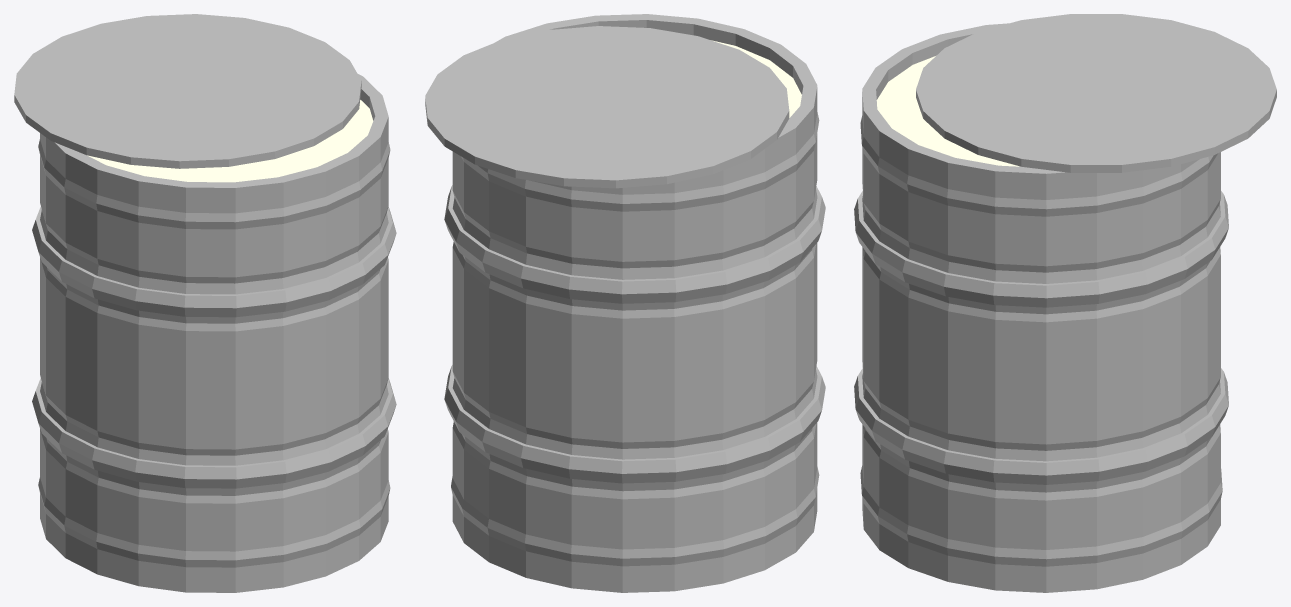
File: chemicals.FBX
3 views of the same model, side by side, from view 1: azimuth 30°, elevation 25°; view 2: azimuth 150°, elevation 25°; view 3: azimuth 270°, elevation 25° (orthographic). The views are drawn at different scales.
Visible parts, largest first — view 1: chemicals; view 2: chemicals; view 3: chemicals.
Boxes of the visible parts, x1,y1,x2,y2 form: chemicals: [14, 14, 396, 592]; chemicals: [425, 14, 825, 592]; chemicals: [854, 14, 1276, 592].
Bounding box in the file's own units: 209 × 234 × 261.
